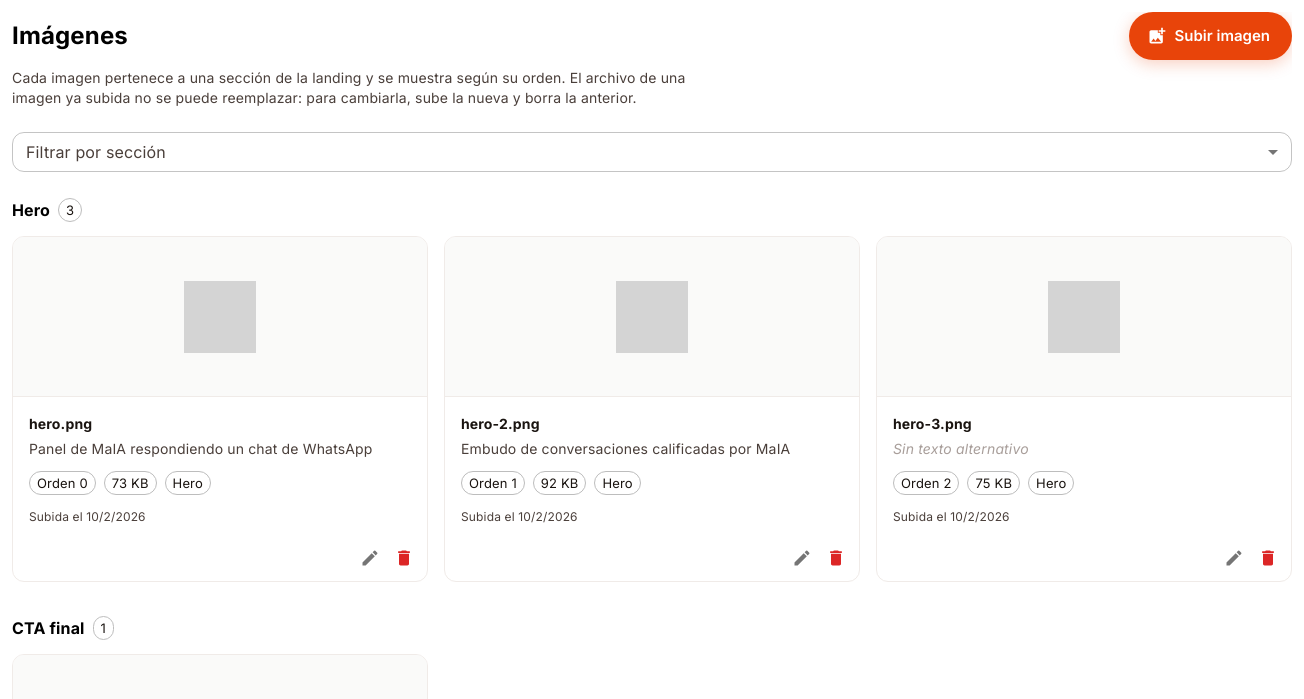
Test: ImagesGrid — listado › el filtro por sección se resuelve en el backend con ?seccion=
Expected: the heading "hero.png" is shown, left=29, top=415, right=92, bottom=432
Step 1. Click the dropdown named "Filtrar por sección" → point(652, 152), box left=12, top=132, right=1292, bottom=172
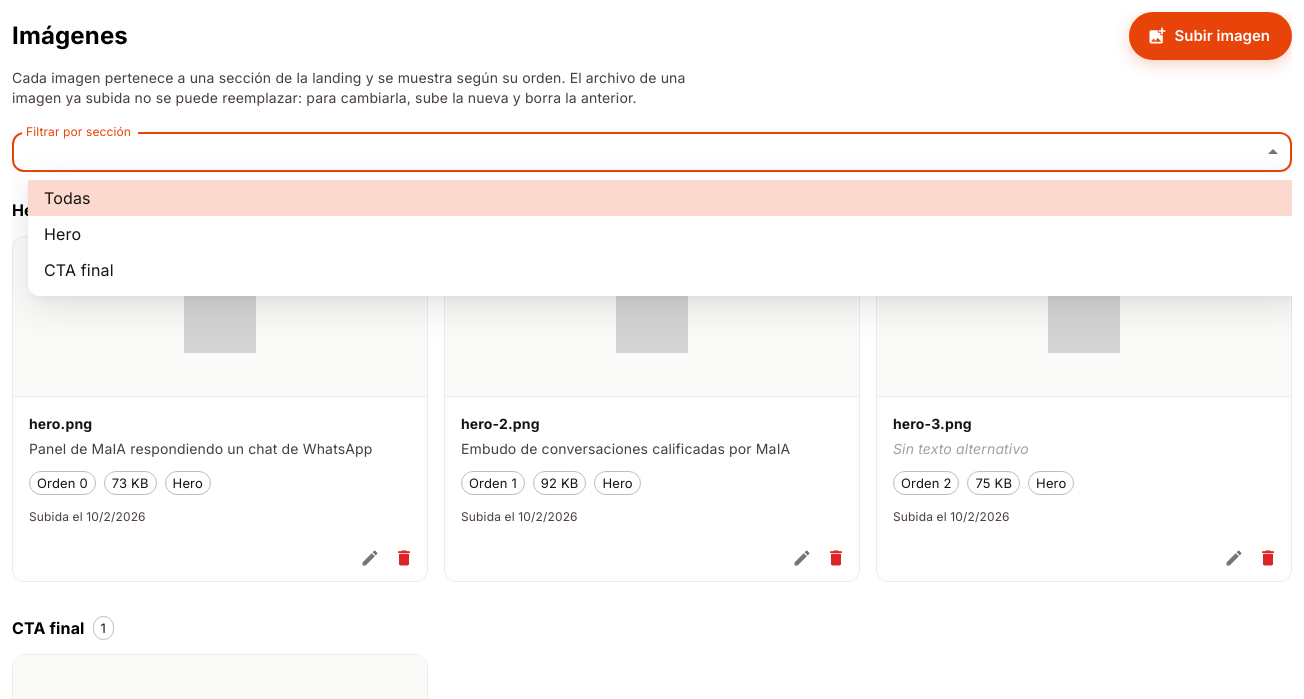
Step 2. Click the option "CTA final" → point(79, 270), box left=44, top=260, right=114, bottom=280
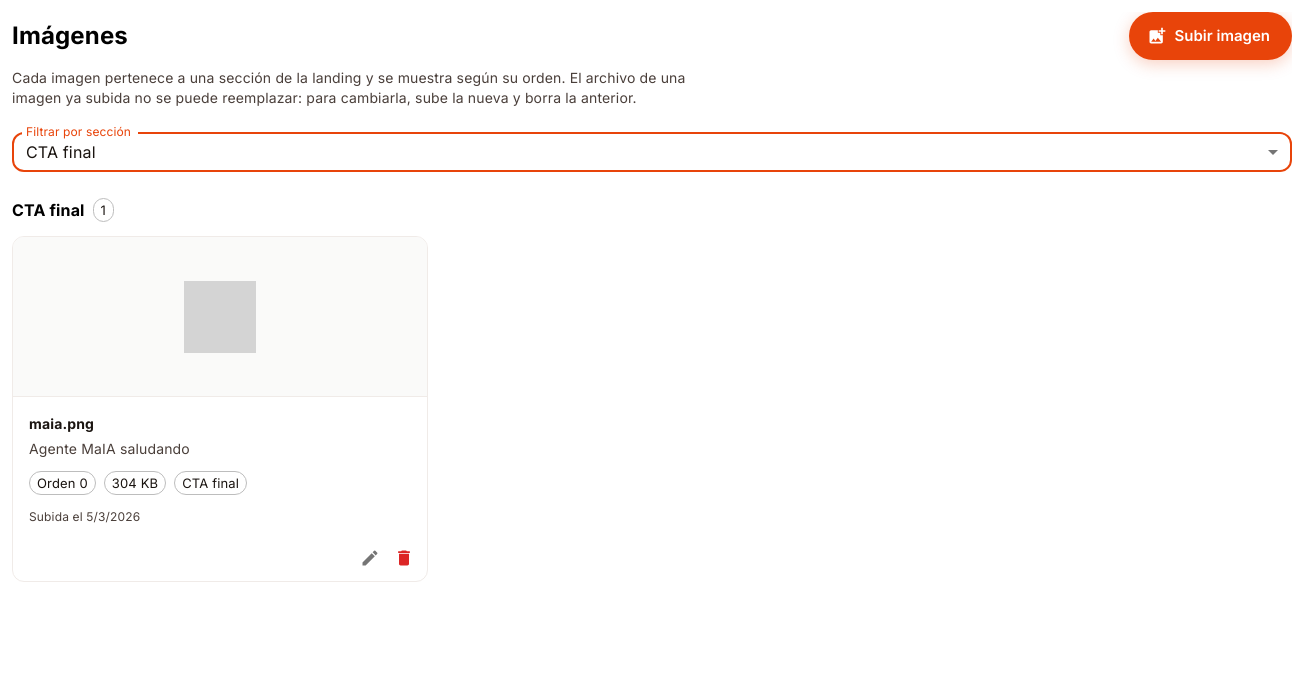
Expected: the heading "maia.png" is shown, left=29, top=415, right=94, bottom=432
Result: the heading "hero.png" is gone
Result: the heading "Hero" is gone
